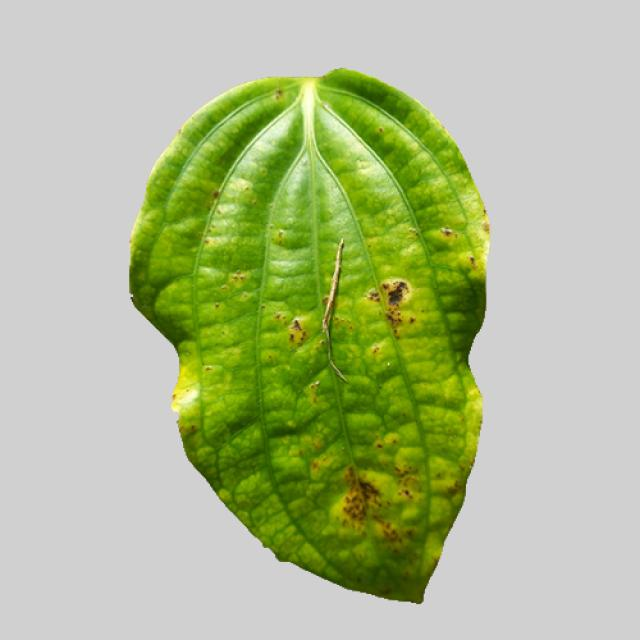yellow-mottle-virus: (130, 70, 482, 599)
